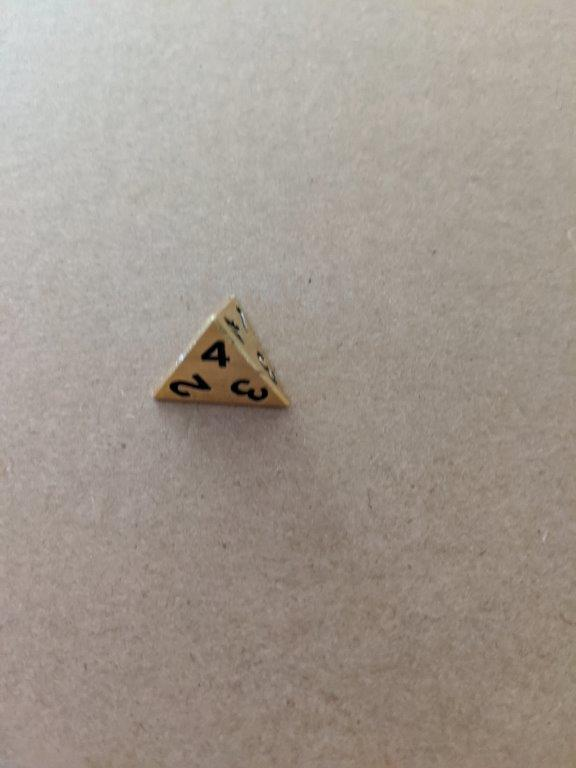d4-4: (150, 294, 292, 413)
